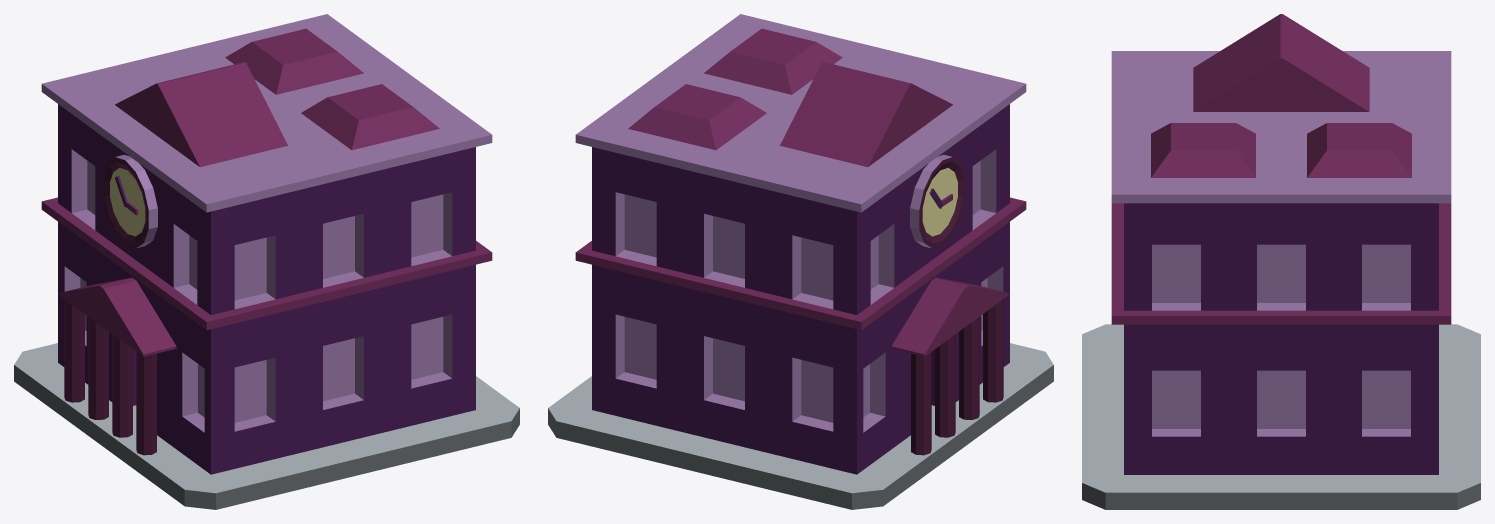
The model's file is CityHall.fbx.
3 renders of one model, left to right at view 1: azimuth 30°, elevation 25°; view 2: azimuth 150°, elevation 25°; view 3: azimuth 270°, elevation 25°, orthographic. The views are drawn at different scales.
Parts seen in each view (by area): view 1: CityHall, CityHall_Bottom; view 2: CityHall, CityHall_Bottom; view 3: CityHall, CityHall_Bottom.
Part boxes in pixels (bbox=[...]): CityHall: bbox=[41, 14, 492, 474]; CityHall_Bottom: bbox=[14, 343, 519, 509]; CityHall: bbox=[575, 14, 1026, 474]; CityHall_Bottom: bbox=[548, 343, 1053, 509]; CityHall: bbox=[1111, 14, 1451, 474]; CityHall_Bottom: bbox=[1082, 324, 1480, 509].
Bounding box in the file's own units: 64.51 × 63.67 × 64.51.
